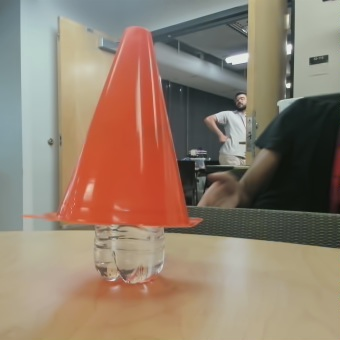Cone: (75, 22, 205, 216)
